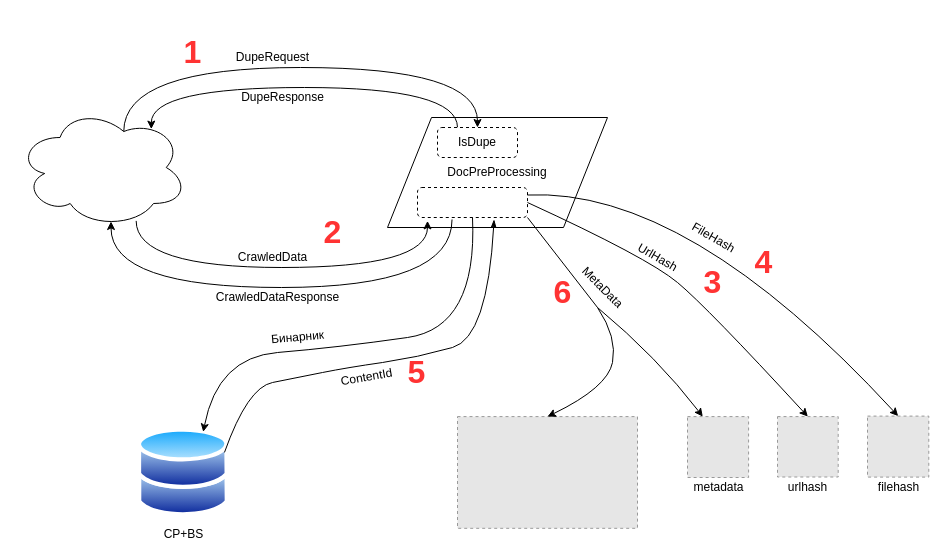
Image size: 947x559. Some labels were removed from this diagram. Grey dashed boxes stand in for pictures. The centre of each missing label's shape, as x and y in pixels:
"SendCrawledData" belongs at (472,202).
"Краулеры" belongs at (102,167).
